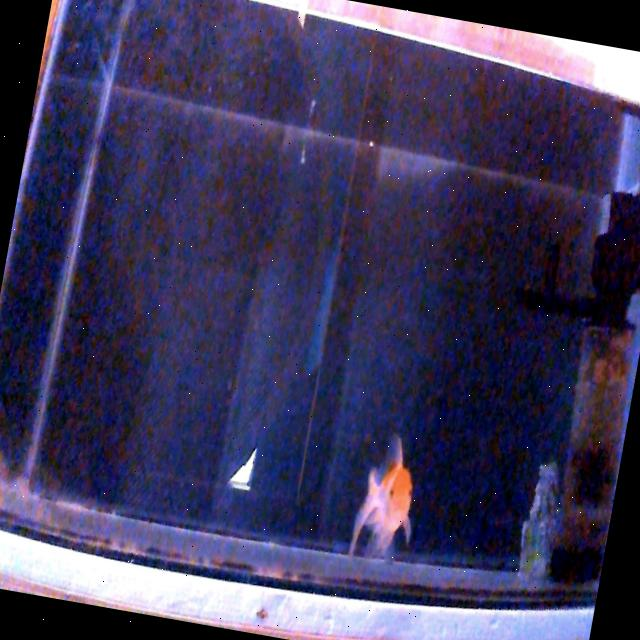fish: (349, 436, 412, 555)
